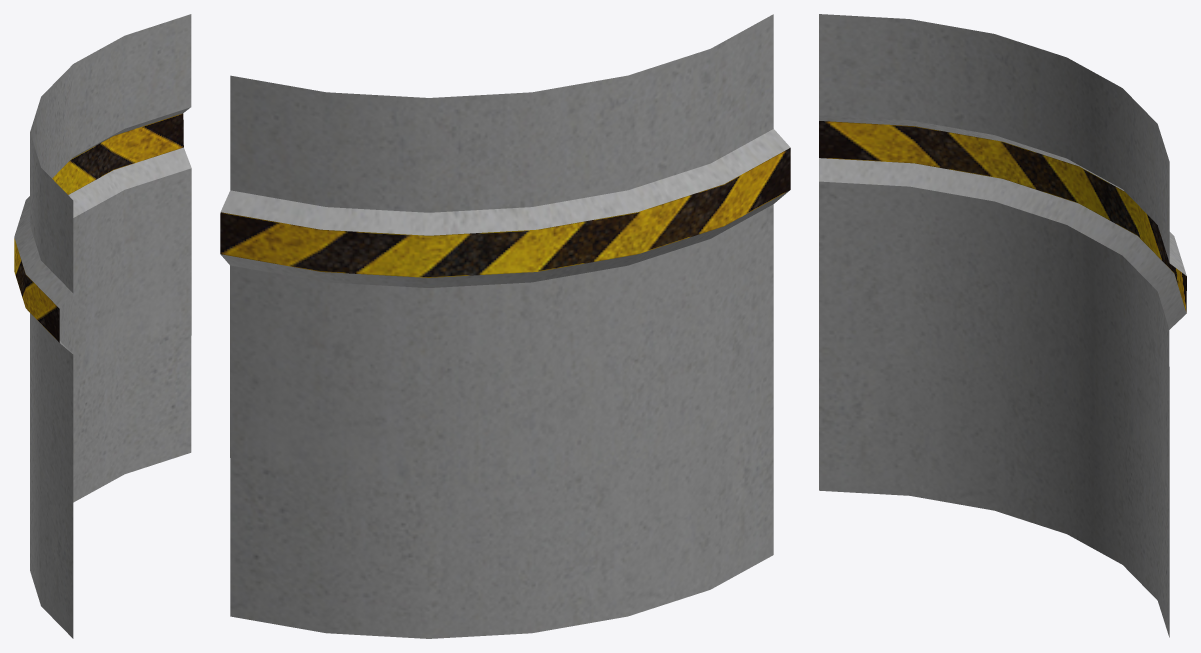
Rendered from Wall_roll90_out_01.FBX.
3 views of the same model, side by side, from view 1: azimuth 30°, elevation 25°; view 2: azimuth 150°, elevation 25°; view 3: azimuth 270°, elevation 25° (orthographic). The views are drawn at different scales.
Visible parts, largest first — view 1: Wall_roll90_out_01_mesh; view 2: Wall_roll90_out_01_mesh; view 3: Wall_roll90_out_01_mesh.
Boxes of the visible parts, box(x1,y1,x2,y2) form: Wall_roll90_out_01_mesh: box(14, 14, 191, 638); Wall_roll90_out_01_mesh: box(220, 14, 790, 638); Wall_roll90_out_01_mesh: box(819, 14, 1186, 637).
Size of the model in its own units: 210 by 300 by 210.
Materials: 2 (2 with a texture image).
